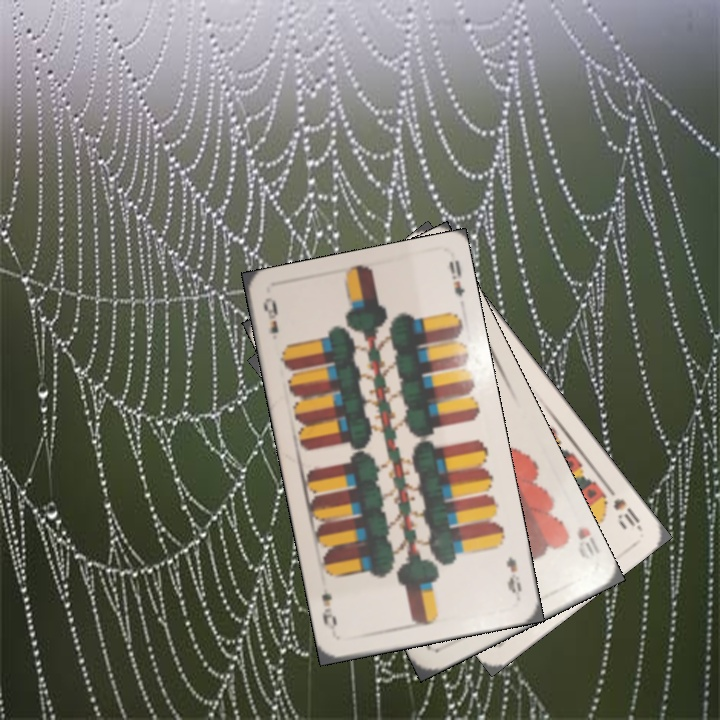E9: (502, 552, 524, 596), (259, 293, 281, 336)
H10: (573, 523, 597, 564)
S10: (601, 480, 643, 532)
